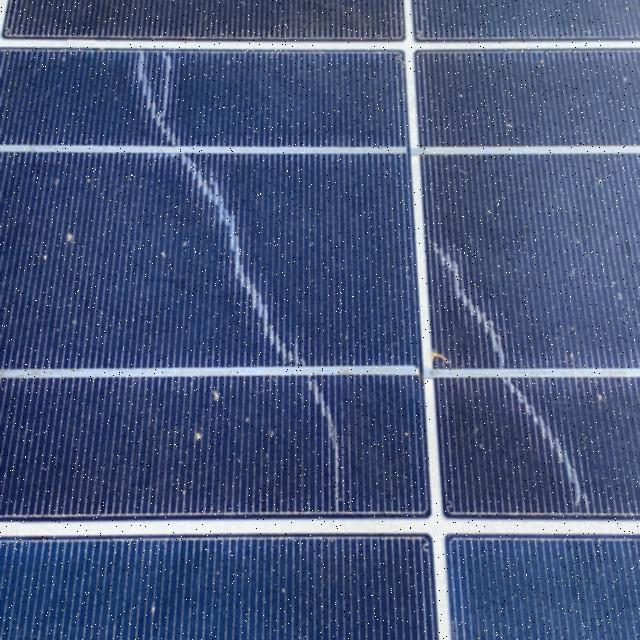electrical damage: (115, 26, 617, 529)
